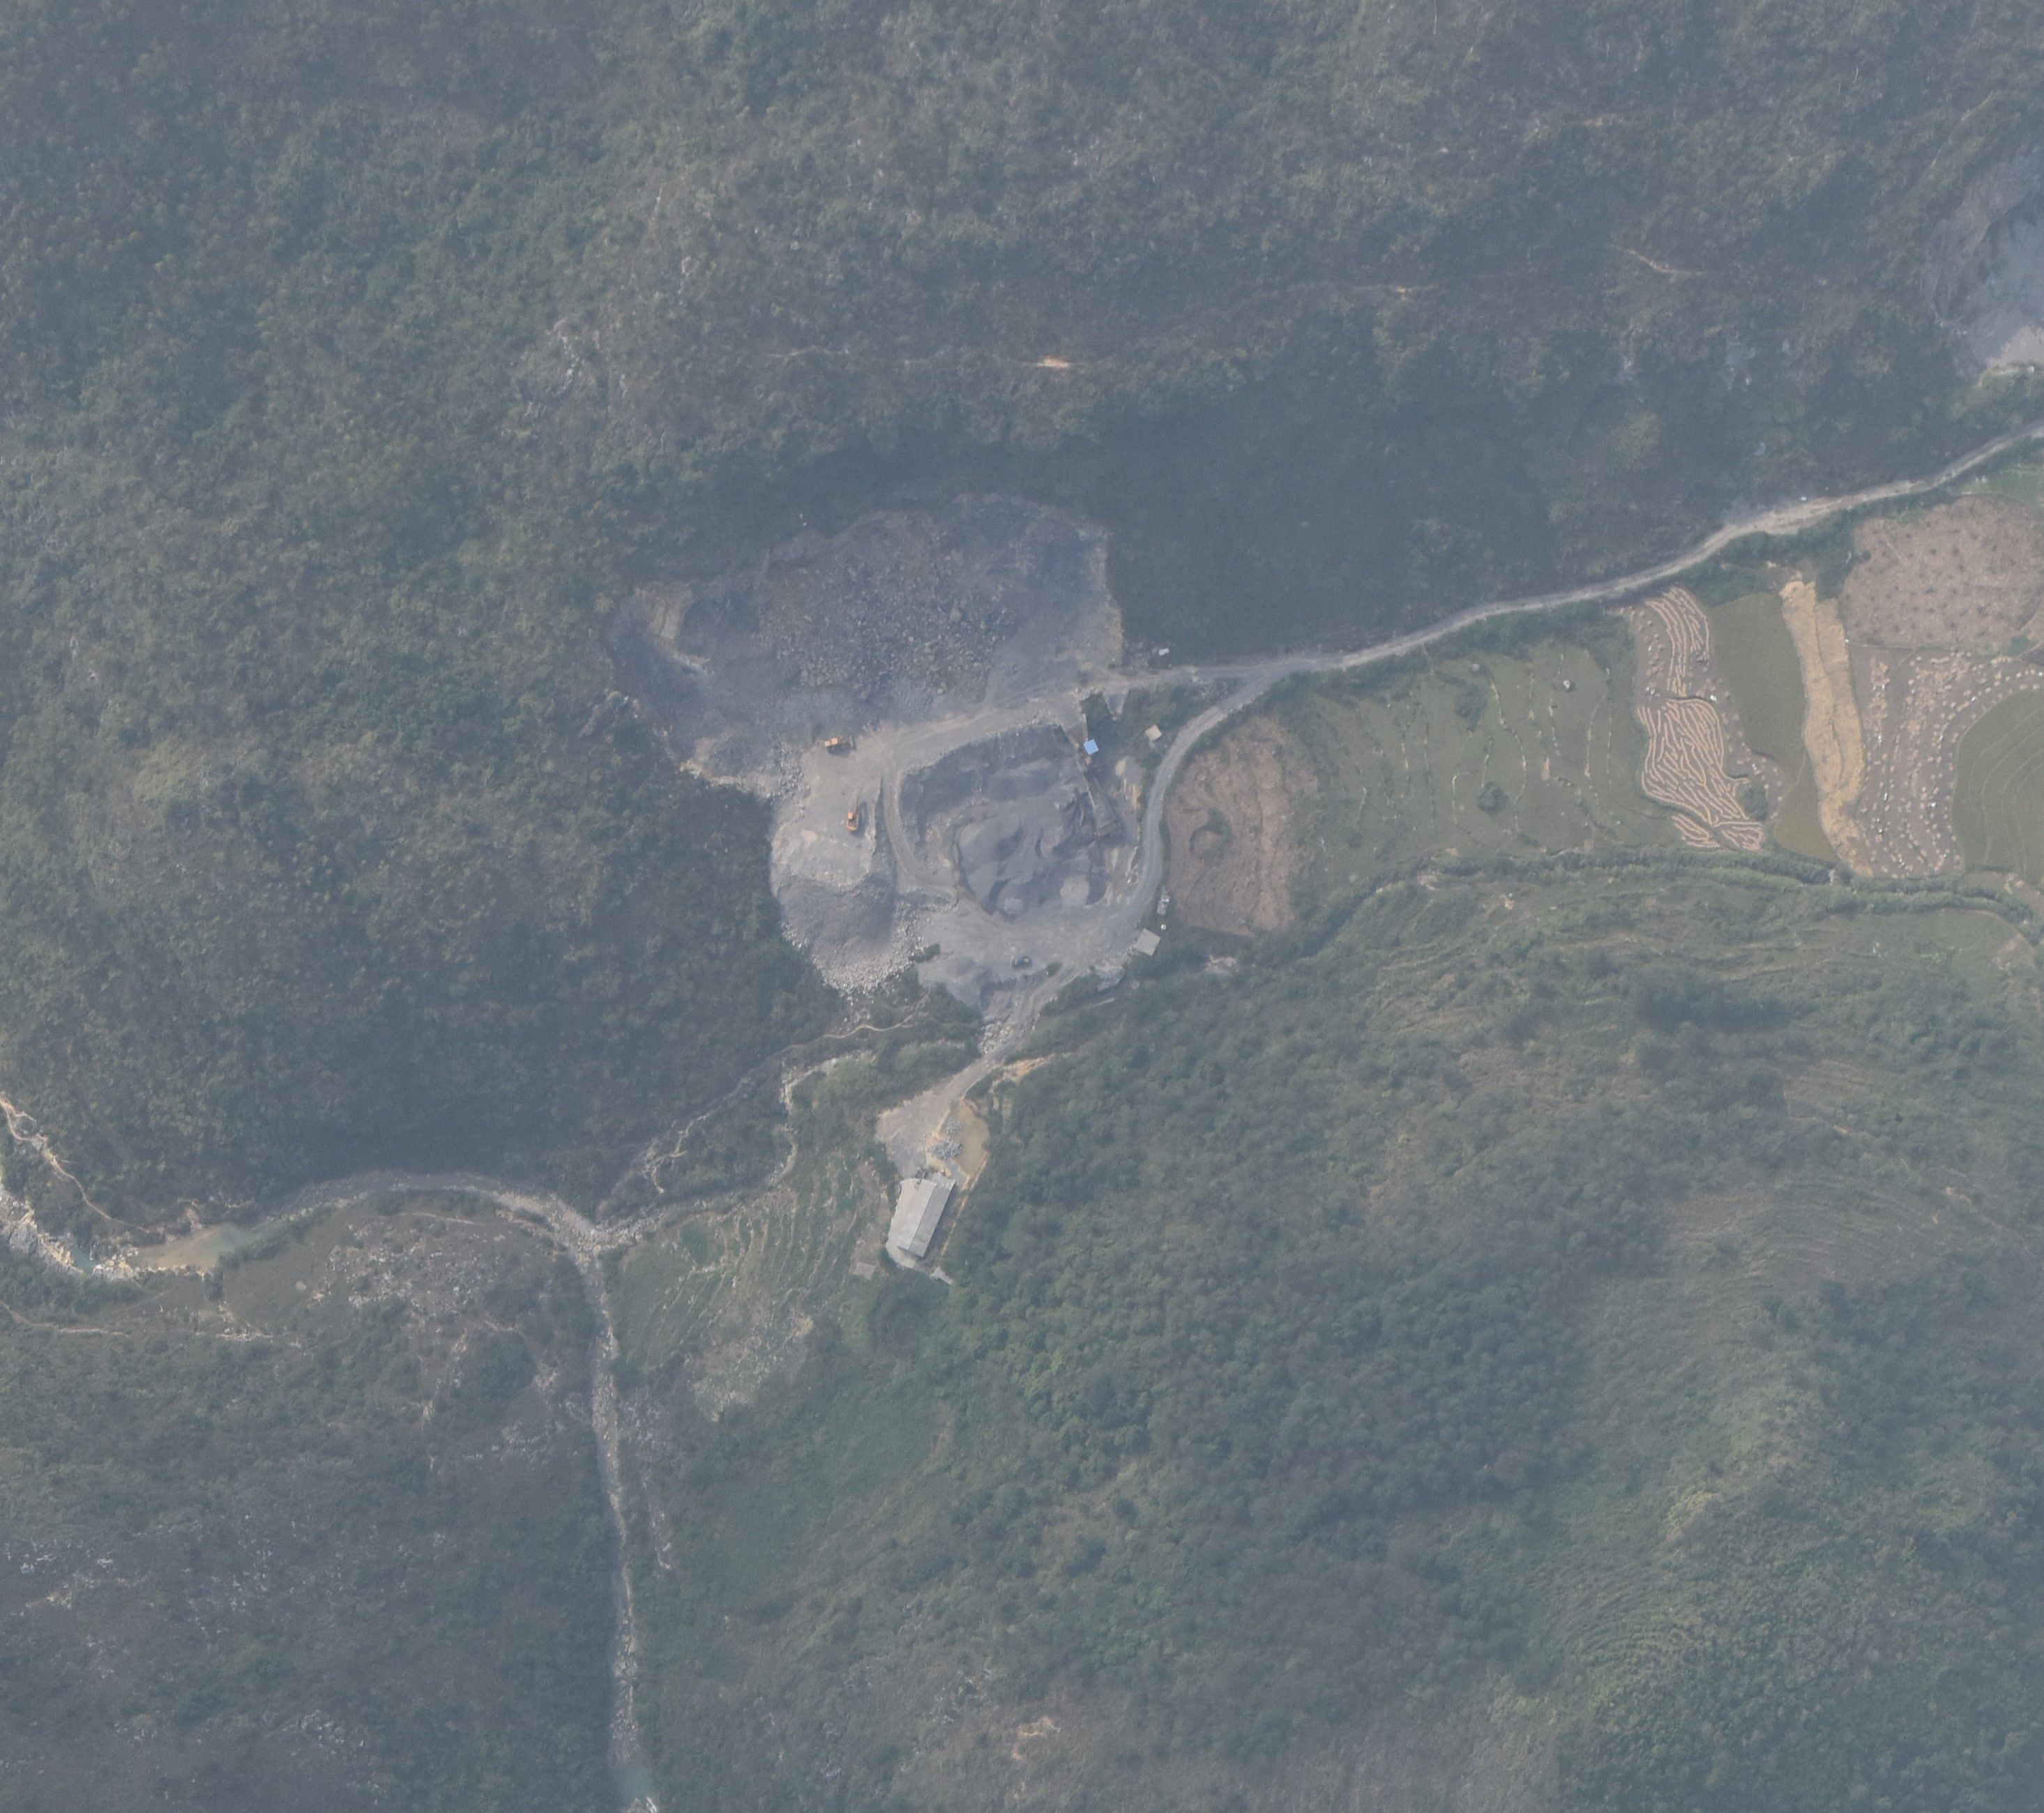building: (897, 1181, 951, 1257)
prefabricated-house: (1083, 738, 1098, 755)
quarry: (610, 491, 1172, 1272)
vehicle: (845, 794, 860, 831), (825, 736, 855, 750), (1010, 956, 1029, 966)
